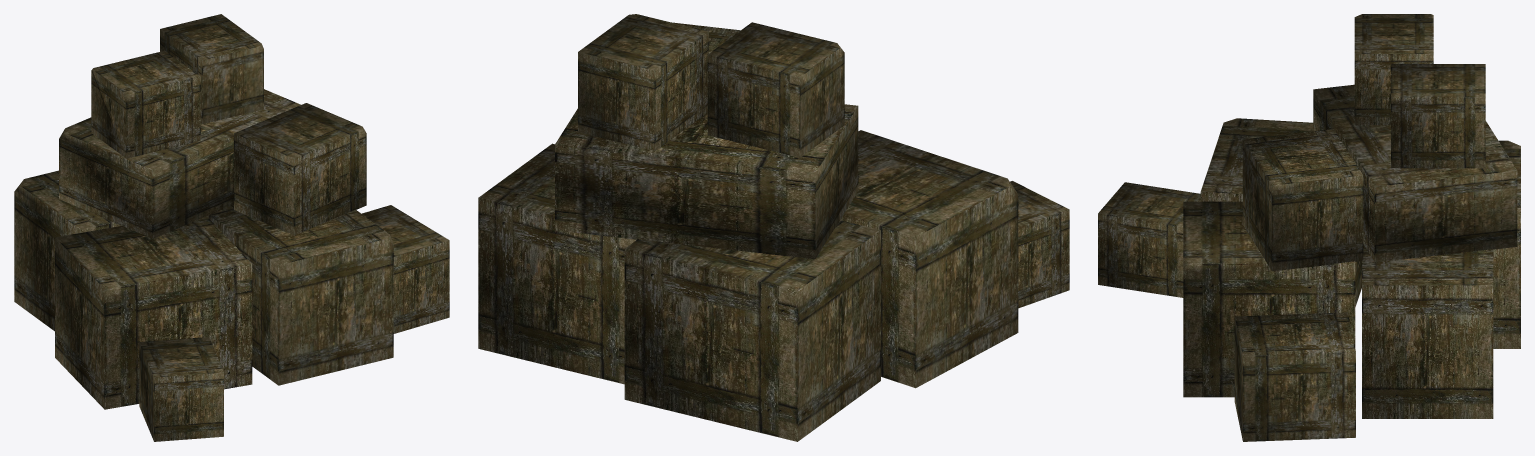
File: AW_CRATEPILE_01.glb
3 renders of one model, left to right at view 1: azimuth 30°, elevation 25°; view 2: azimuth 150°, elevation 25°; view 3: azimuth 270°, elevation 25°, orthographic. The views are drawn at different scales.
Parts seen in each view (by area): view 1: Mesh; view 2: Mesh; view 3: Mesh.
Boxes of the visible parts, <box> form: Mesh: <box>14,14,449,441</box>; Mesh: <box>478,14,1069,441</box>; Mesh: <box>1098,14,1520,441</box>.
Bounding box in the file's own units: 3.07 × 2.1 × 2.87.
2 materials, 2 textured.
